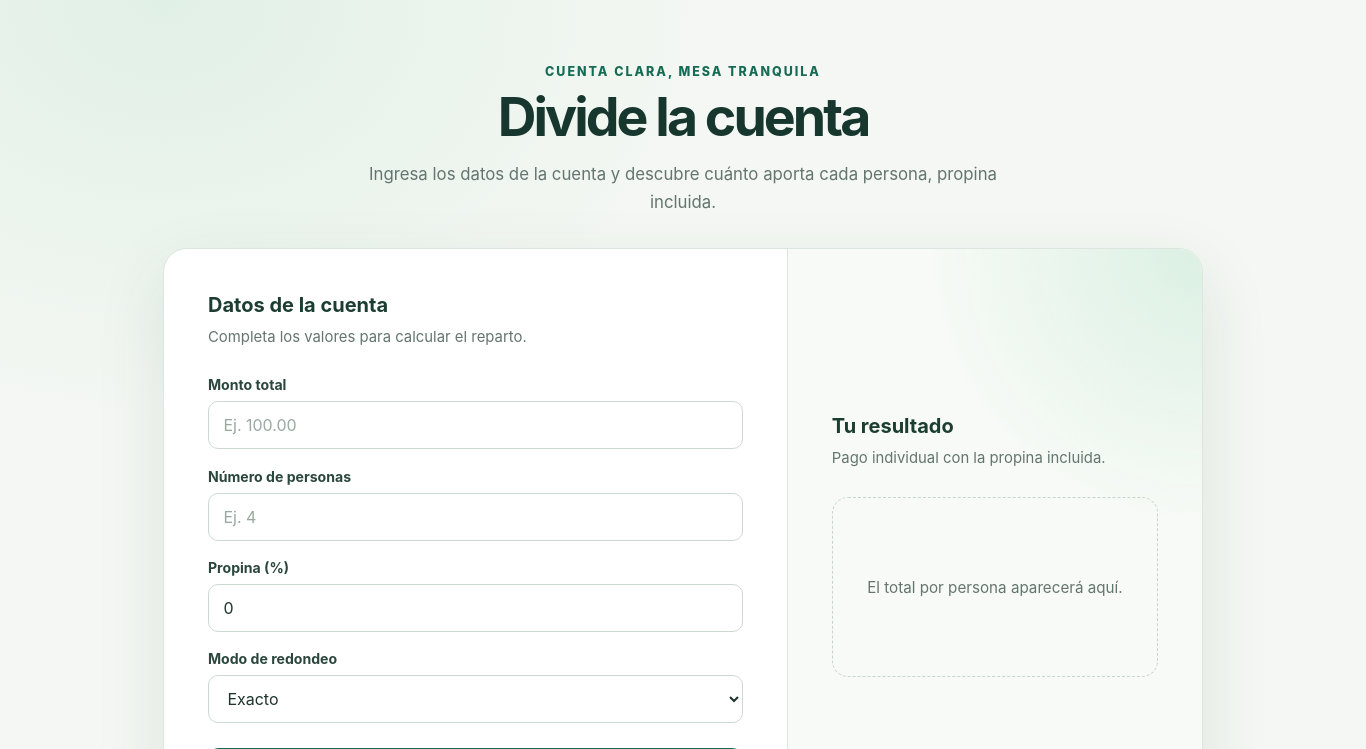
Test: pantalla del divisor › muestra error con monto no numérico y no presenta resultado
Step 1. Type "abc" into the field labelled "Monto total" → [475, 425], box [208,401,743,449]
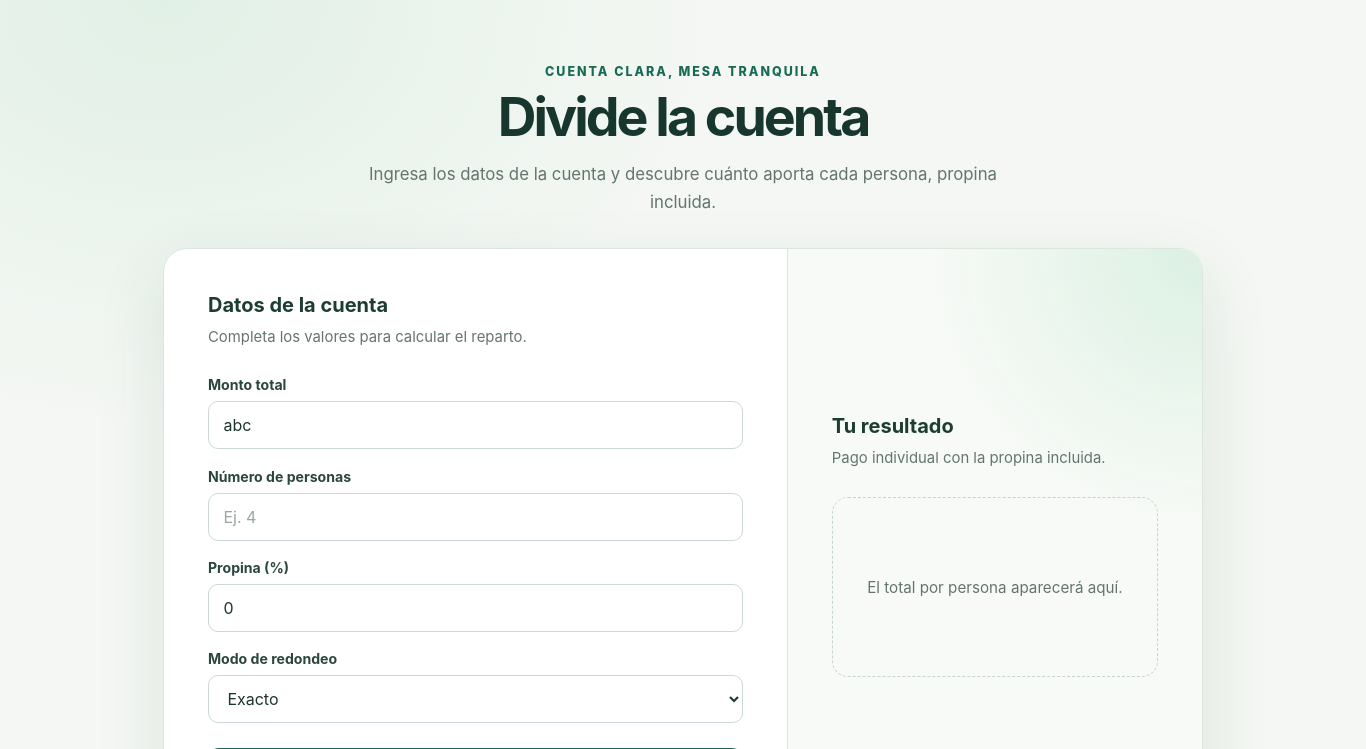
Step 2. Type "4" into the field labelled "Número de personas" → [475, 517], box [208,493,743,541]
(page scrolled)
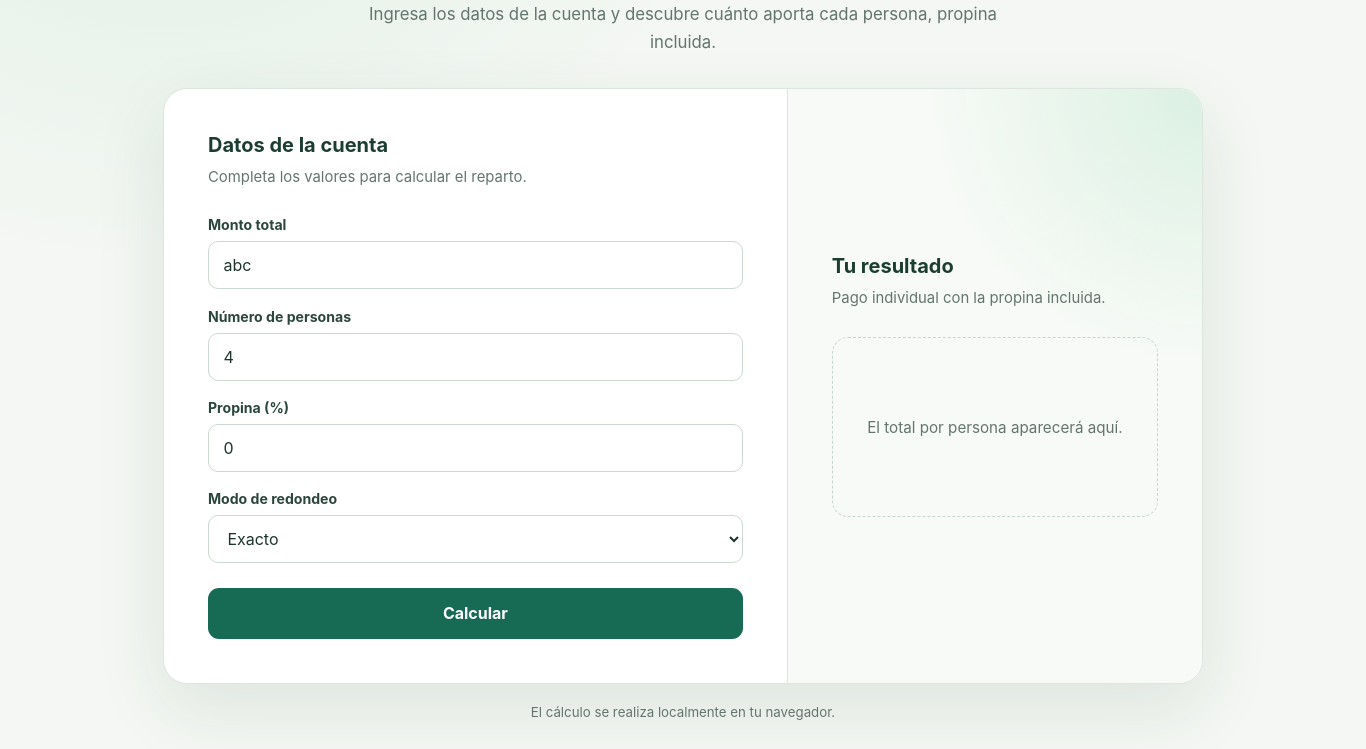
Step 3. Click the button "Calcular" → [475, 614], box [208,588,743,639]
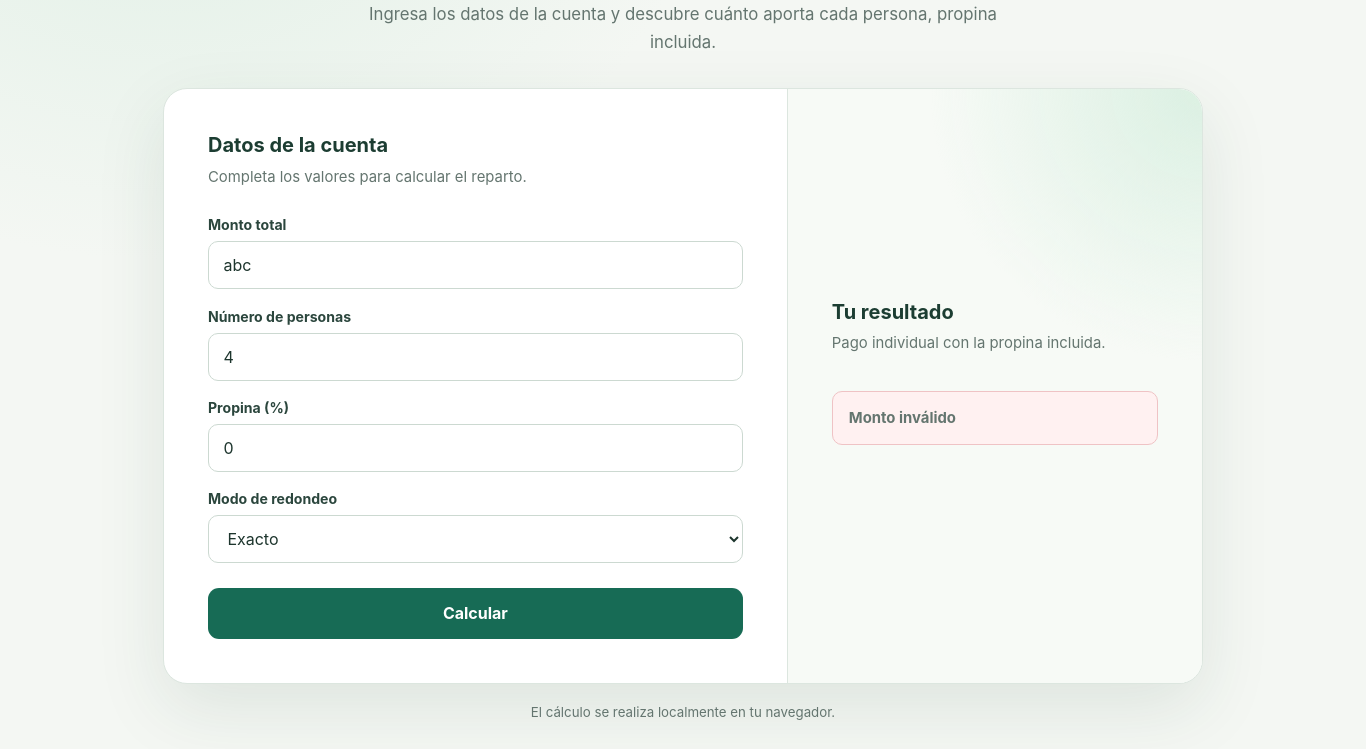
Check: the message reads "Monto inválido", box [849,409,956,427]
